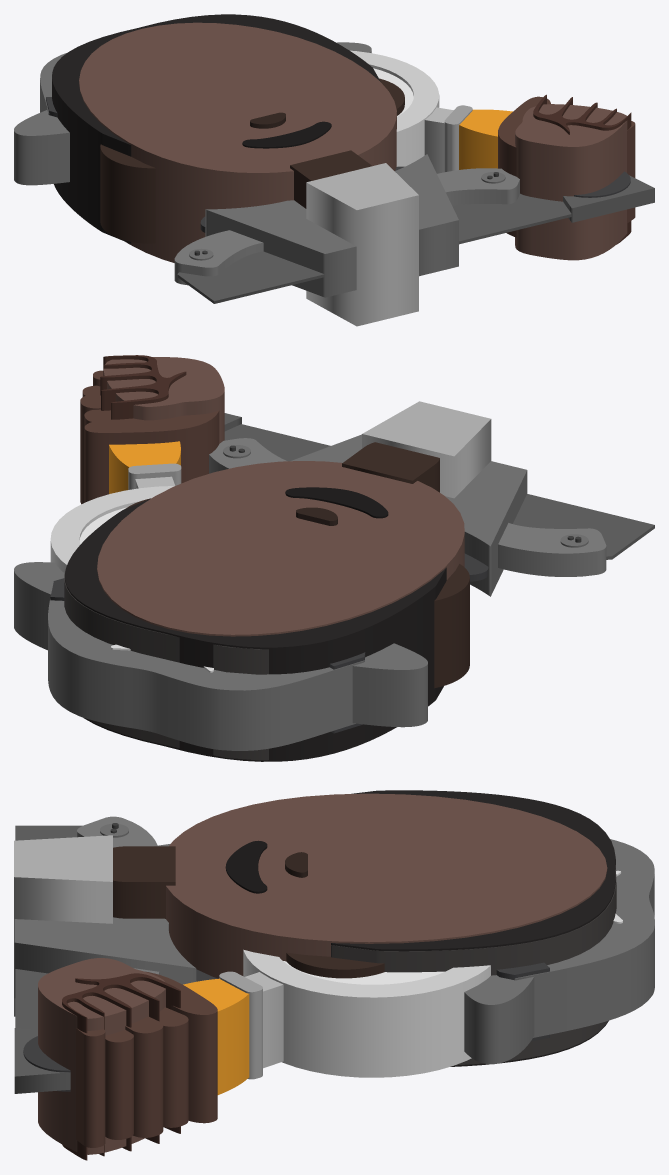
Rendered from emoji_u1f575_1f3ff_200d_2642.glb.
3 views of the same model, one above another, from view 1: azimuth 30°, elevation 25°; view 2: azimuth 150°, elevation 25°; view 3: azimuth 270°, elevation 25° (orthographic). The views are drawn at different scales.
Visible parts, largest first — view 1: emoji_u1f575_1f3ff_200d_2642; view 2: emoji_u1f575_1f3ff_200d_2642; view 3: emoji_u1f575_1f3ff_200d_2642.
Boxes of the visible parts, left/top/right/bottom form: emoji_u1f575_1f3ff_200d_2642: left=14, top=14, right=654, bottom=326; emoji_u1f575_1f3ff_200d_2642: left=14, top=355, right=654, bottom=761; emoji_u1f575_1f3ff_200d_2642: left=14, top=790, right=654, bottom=1160.
Bounding box in the file's own units: 0.0326 × 0.0082 × 0.0333.
